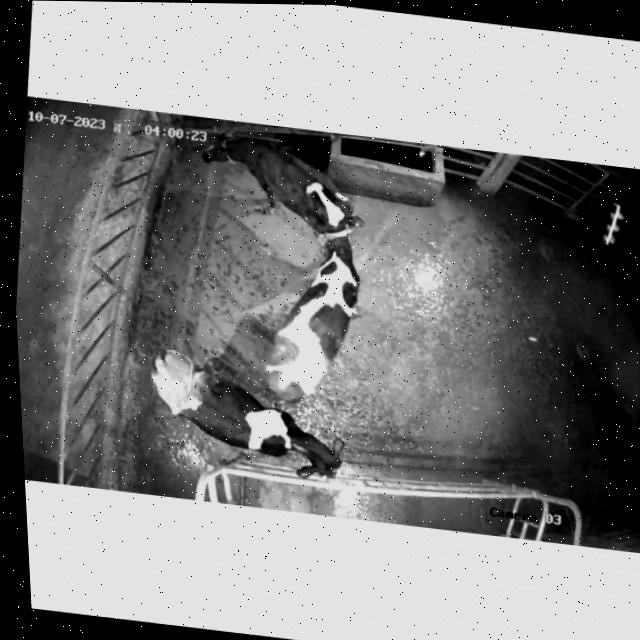propping: (278, 157, 381, 270)
